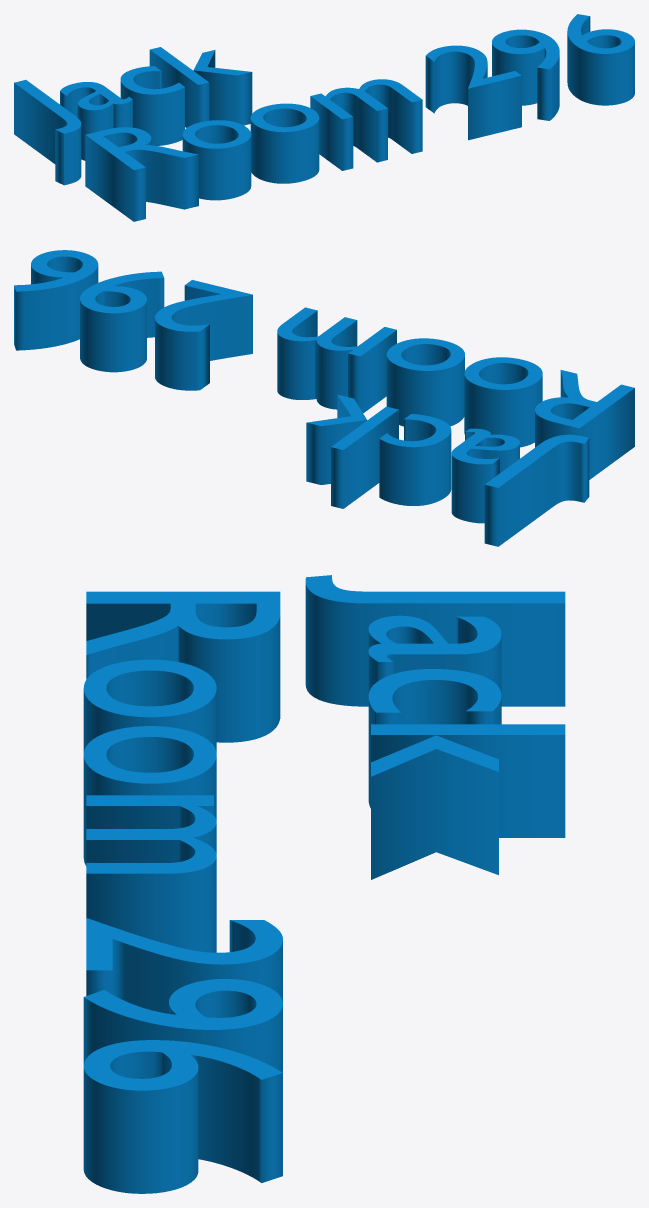
File: jack-296.gltf
3 renders of one model, top to bottom at view 1: azimuth 30°, elevation 25°; view 2: azimuth 150°, elevation 25°; view 3: azimuth 270°, elevation 25°, orthographic. The views are drawn at different scales.
Visible parts, largest first — view 1: Text; view 2: Text; view 3: Text.
Boxes of the visible parts, x1,y1,x2,y2 form: Text: (14,14,634,221); Text: (14,250,634,546); Text: (83,575,565,1193).
Bounding box in the file's own units: 4.28 × 0.4 × 1.69.
